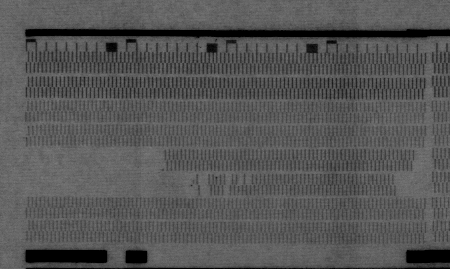Broken hole: (22, 142, 167, 200), (165, 169, 213, 198), (391, 173, 424, 199), (223, 174, 257, 187), (410, 150, 428, 173), (219, 184, 232, 197)
